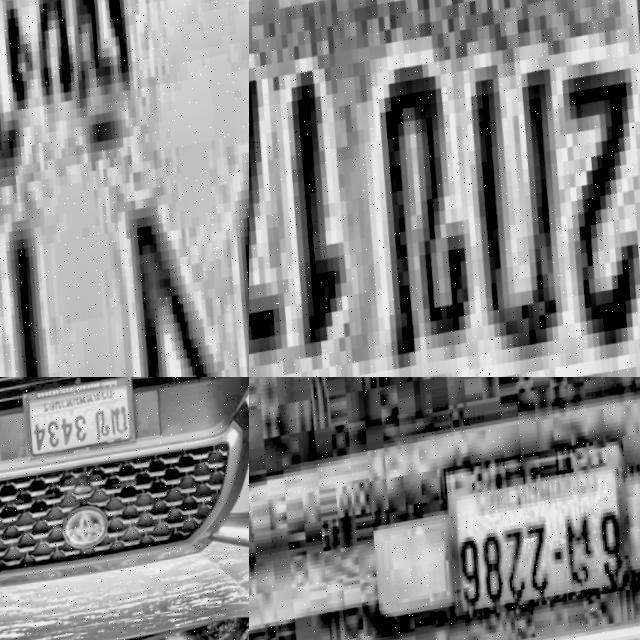license-plate: (249, 0, 640, 377), (0, 0, 249, 377), (435, 435, 640, 640), (21, 377, 138, 468)
